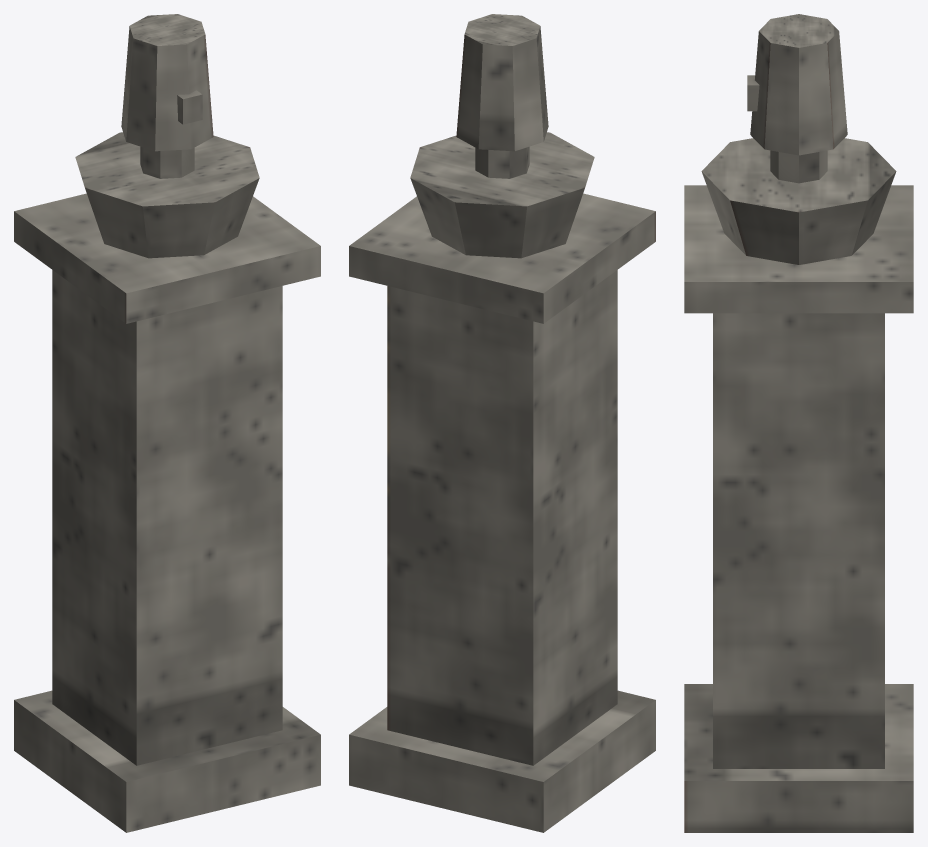
File: Atmos_Bust_Pedestal.fbx
The picture shows the model from 3 angles, left to right: view 1: azimuth 30°, elevation 25°; view 2: azimuth 150°, elevation 25°; view 3: azimuth 270°, elevation 25°; orthographic projection. The views are drawn at different scales.
Parts seen in each view (by area): view 1: Atmos_Bust_Pedestal; view 2: Atmos_Bust_Pedestal; view 3: Atmos_Bust_Pedestal.
Boxes of the visible parts, x1=… form: Atmos_Bust_Pedestal: x1=14, y1=14, x2=320, y2=832; Atmos_Bust_Pedestal: x1=349, y1=14, x2=655, y2=832; Atmos_Bust_Pedestal: x1=684, y1=14, x2=913, y2=832.
Bounding box in the file's own units: 40 × 145 × 40.
Materials: 1 (1 with a texture image).
